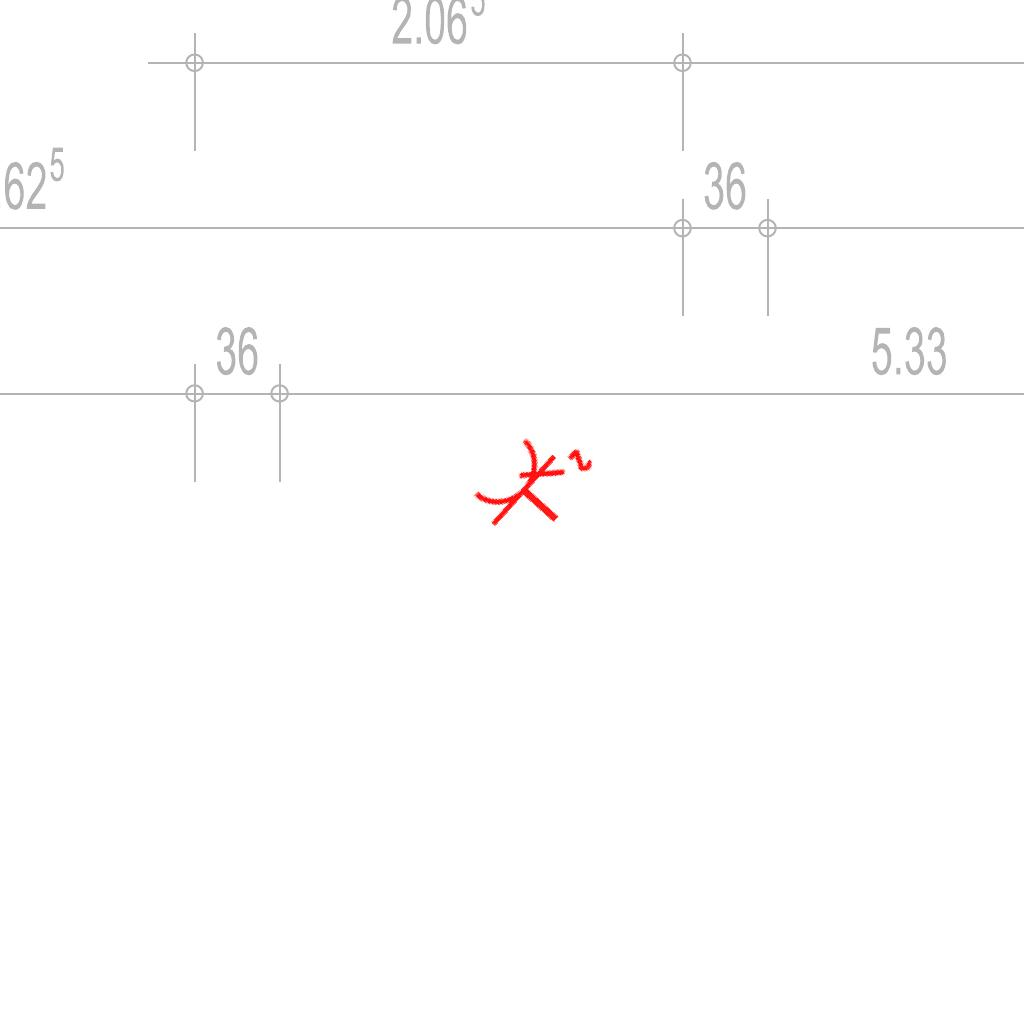Schukosteckdose_mehrfach: (461, 412, 608, 562)
